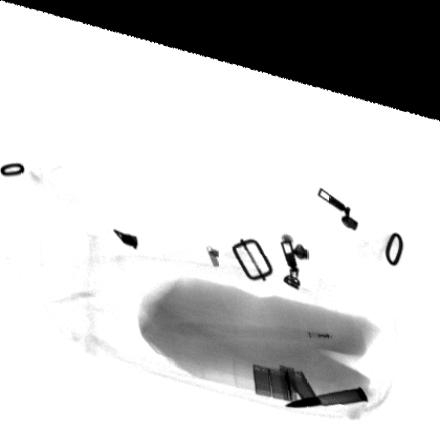Bullet: (282, 366, 368, 394)
